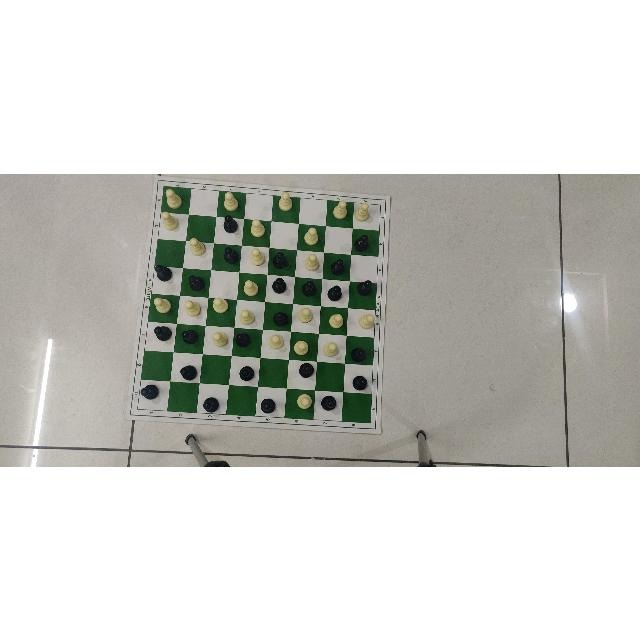black-pawn: (221, 243, 240, 264), (271, 248, 289, 269), (188, 271, 206, 292), (222, 212, 239, 233), (154, 264, 173, 282), (272, 310, 291, 328), (180, 327, 199, 345), (139, 382, 159, 399), (320, 394, 338, 412), (202, 395, 220, 413), (179, 363, 197, 381), (329, 256, 346, 275), (350, 344, 367, 363), (300, 279, 317, 297), (356, 279, 373, 297), (271, 274, 287, 293), (153, 324, 172, 340), (354, 233, 370, 251), (327, 284, 343, 302), (299, 361, 315, 379), (234, 331, 252, 347), (239, 364, 255, 382), (352, 373, 368, 390), (260, 396, 276, 413)
white-pawn: (160, 209, 179, 231), (165, 187, 183, 209), (152, 295, 171, 315), (188, 235, 206, 256), (302, 225, 320, 245), (303, 252, 321, 272), (184, 298, 202, 318), (223, 190, 239, 212), (332, 198, 348, 220), (238, 306, 256, 325), (249, 217, 266, 237), (277, 190, 293, 211), (328, 311, 346, 329), (211, 330, 229, 348), (249, 246, 266, 265), (354, 201, 370, 221), (211, 295, 228, 313), (358, 312, 376, 329), (297, 306, 314, 324), (321, 339, 339, 356), (267, 331, 284, 349), (296, 392, 313, 410), (243, 278, 259, 296), (294, 338, 310, 355)
